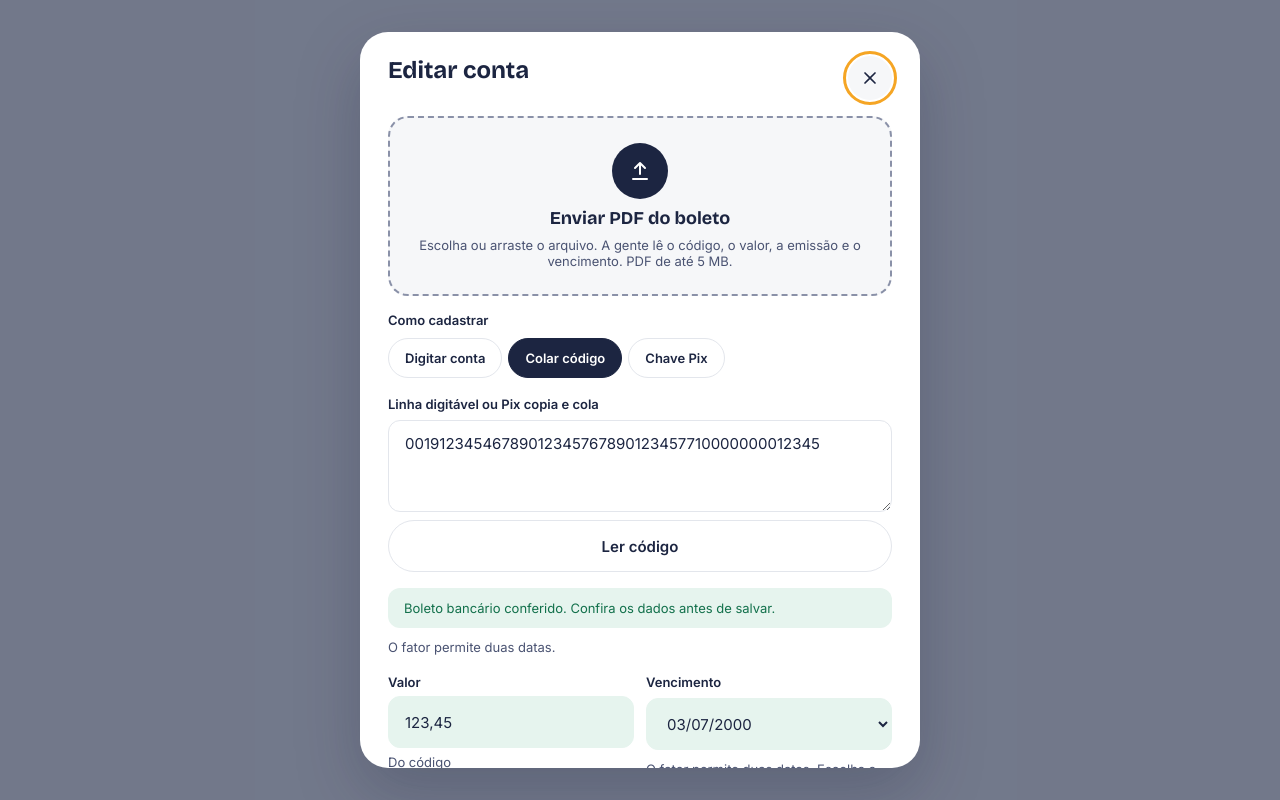
Test: rf08/rn22: a remote instrument refetch cannot replace the preview of a dirty local entry
Later steps or results of the test are not shown.
expect the text "Boleto bancário conferido. Confira os dados antes de salvar." is shown: met, box [388,588,892,628]
Click the button "Chave Pix".
click(676, 358)  # box [628,336,725,380]
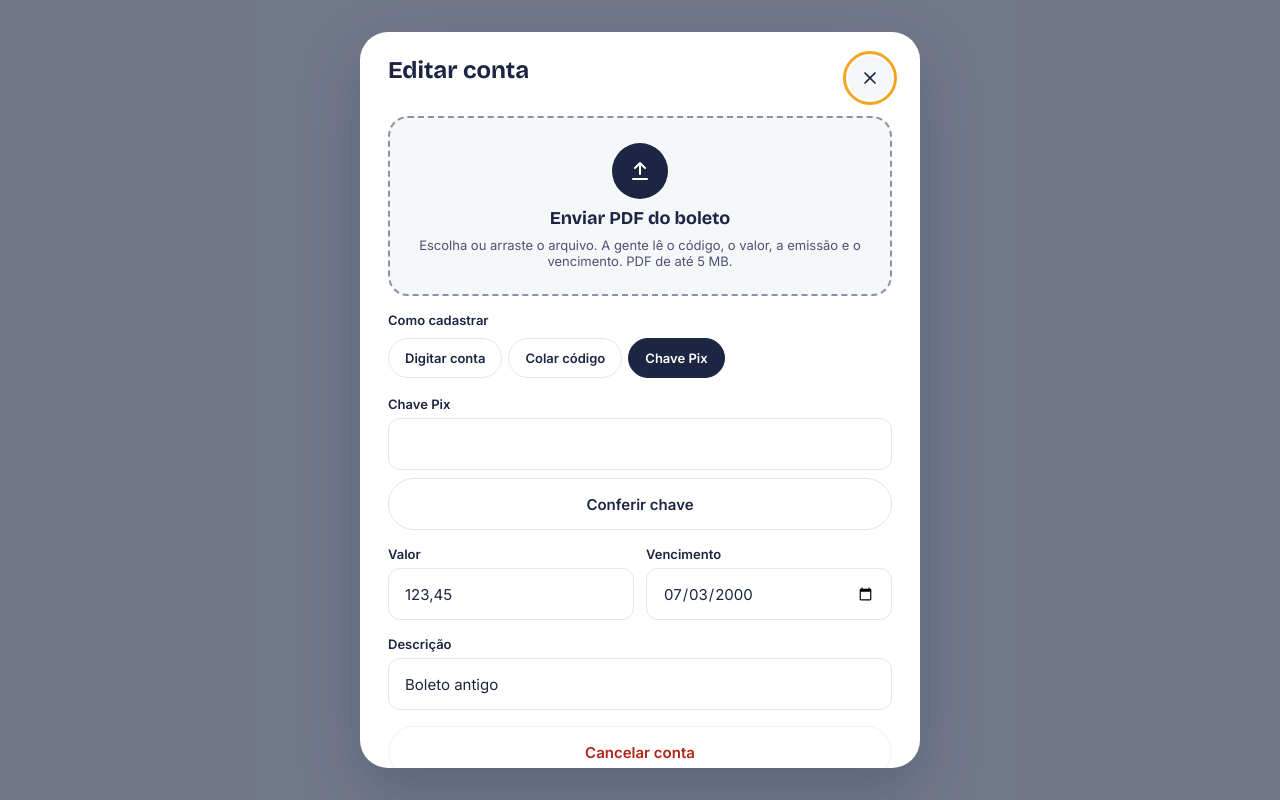
Type "local@exemplo.com" into the field labelled "Chave Pix".
click(640, 444); type("local@exemplo.com")  # box [405,419,875,469]
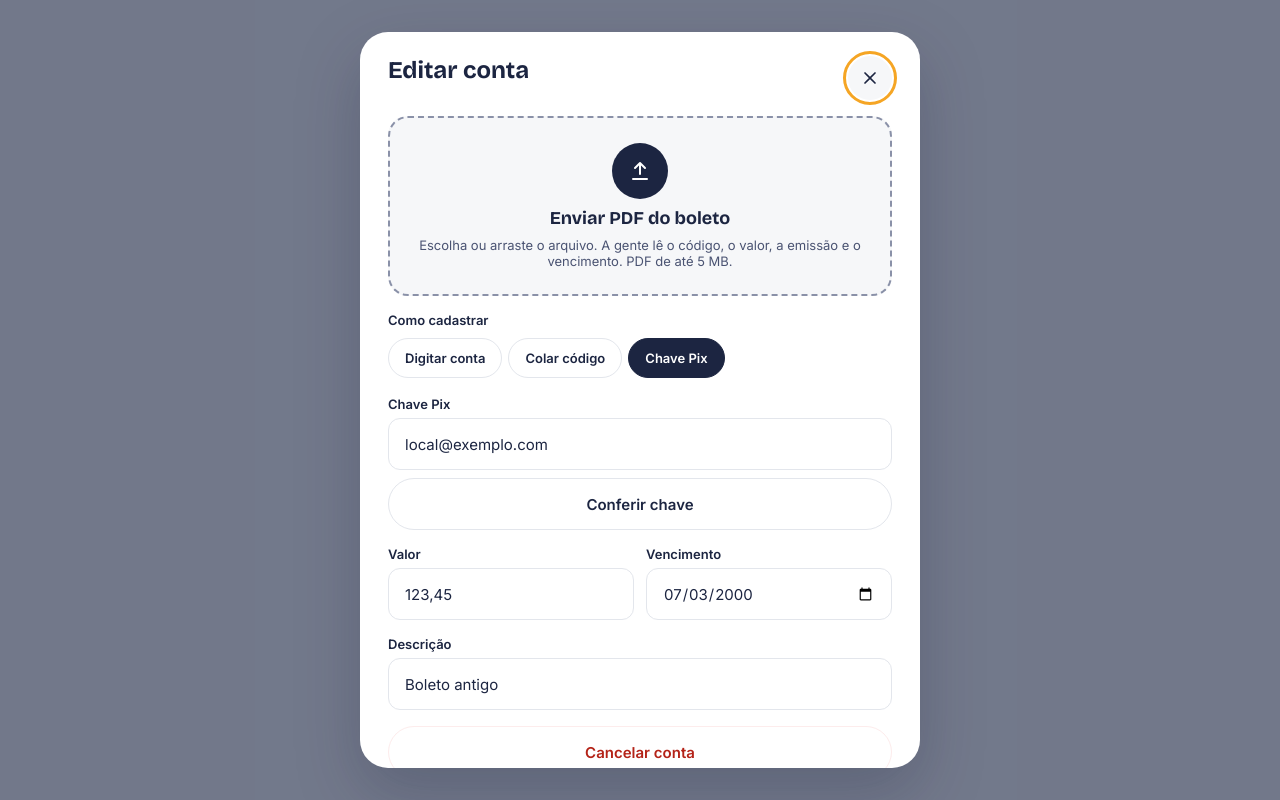
Click the button "Conferir chave".
click(640, 504)  # box [388,478,892,530]
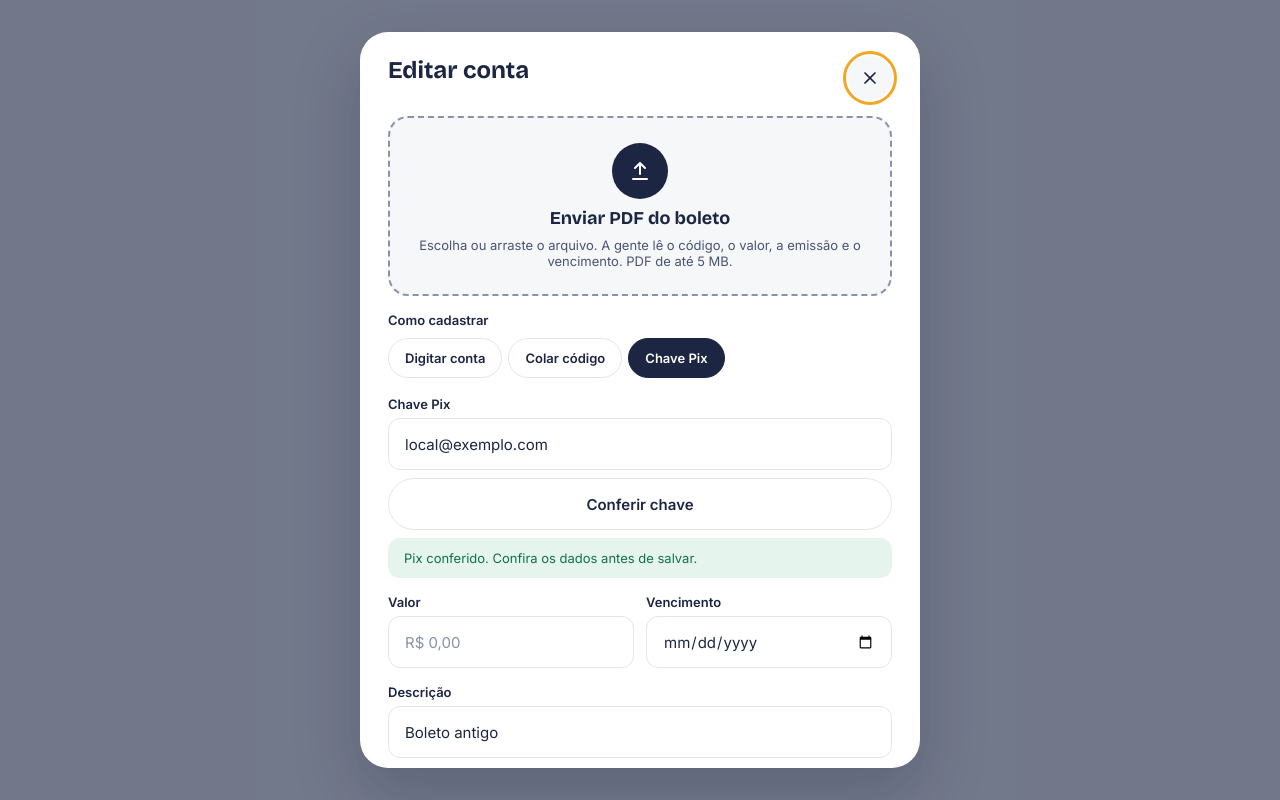
expect the text "Pix conferido. Confira os dados antes de salvar." is shown: met, box [388,538,892,578]
Type "42,00" into the field labelled "Valor".
click(511, 642); type("42,00")  # box [405,617,617,667]
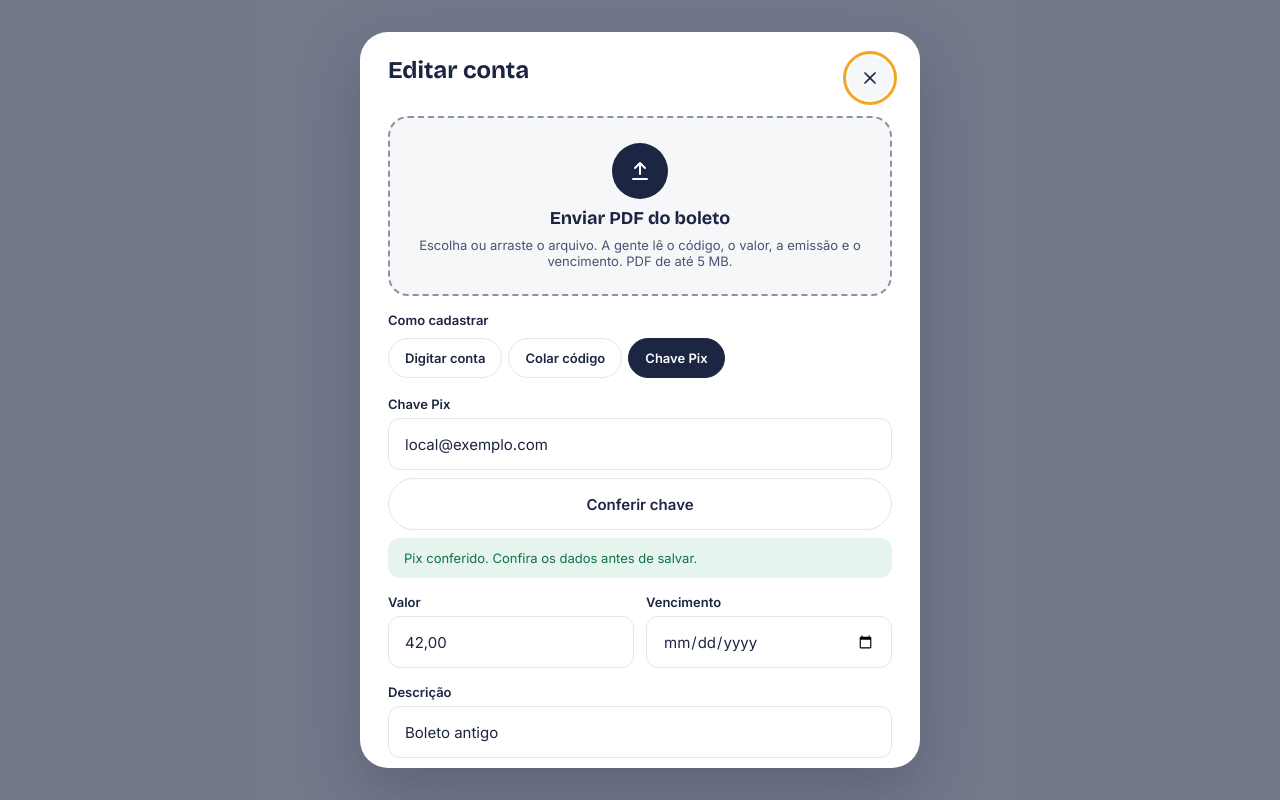
Type "2026-11-20" into the date field labelled "Vencimento".
click(769, 642); type("2026-11-20")  # box [663,617,875,667]
(page scrolled)
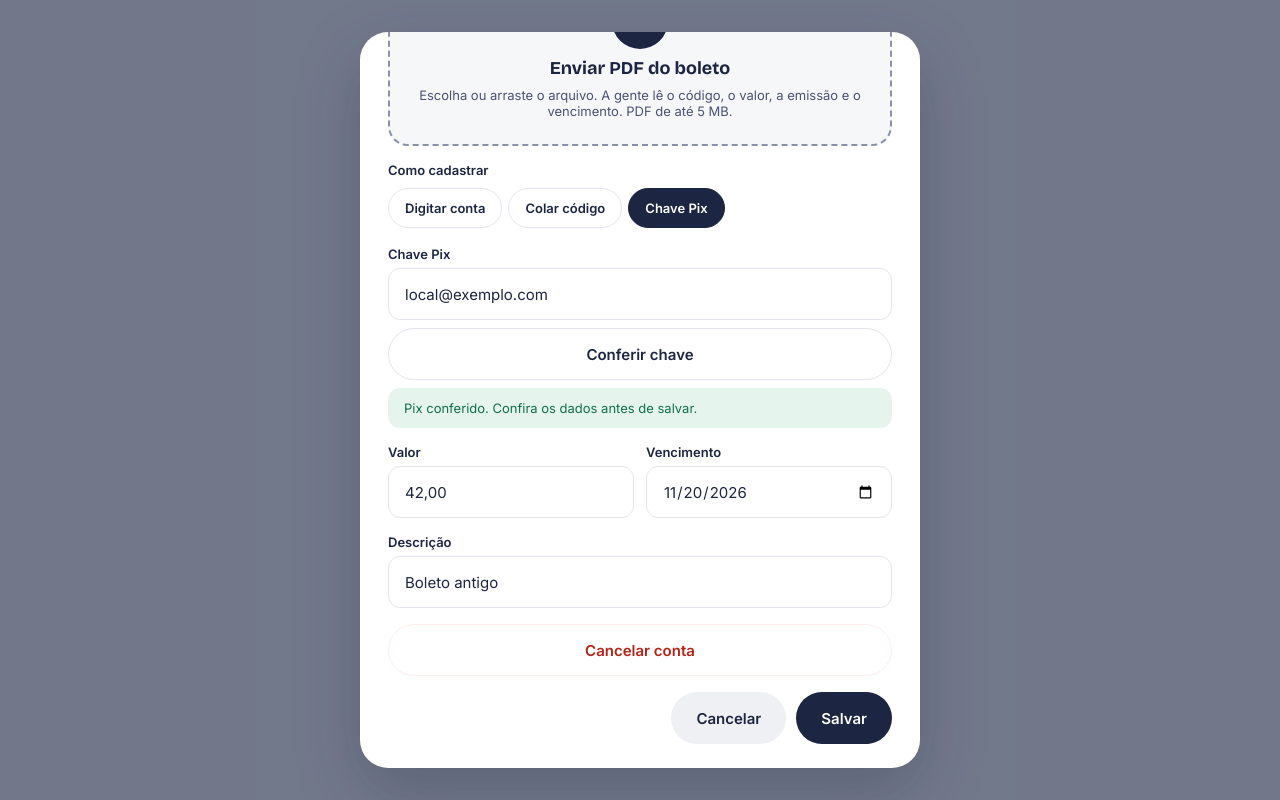
expect the text "Boleto bancário conferido" is not shown: met
expect the text "Pix conferido. Confira os dados antes de salvar." is shown: met, box [388,388,892,428]
